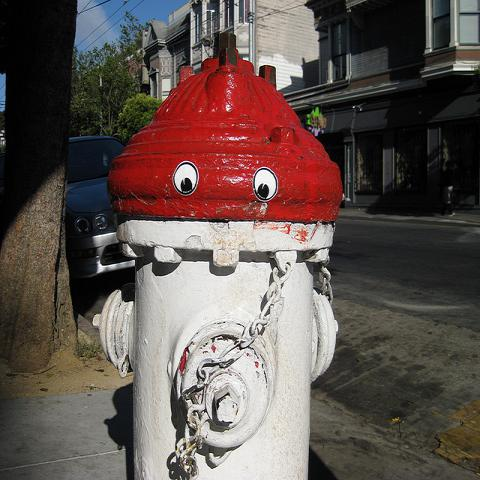car: (65, 138, 135, 282)
